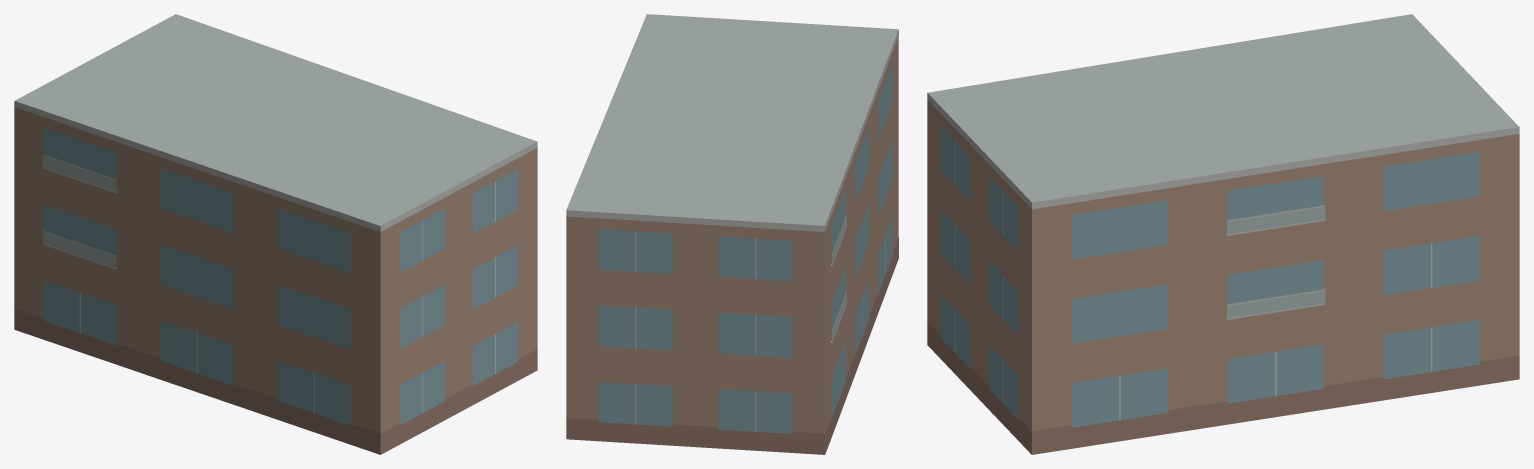
The model's file is survey-upis-32987995.glb.
3 views of the same model, side by side, from view 1: azimuth 30°, elevation 25°; view 2: azimuth 150°, elevation 25°; view 3: azimuth 270°, elevation 25° (orthographic). The views are drawn at different scales.
Parts seen in each view (by area): view 1: survey-upis-32987995.tmp; view 2: survey-upis-32987995.tmp; view 3: survey-upis-32987995.tmp.
Part boxes in pixels (x1,y1,x2,y2): survey-upis-32987995.tmp: (14, 14, 537, 454); survey-upis-32987995.tmp: (566, 14, 898, 454); survey-upis-32987995.tmp: (927, 14, 1519, 454).
Bounding box in the file's own units: 14.68 × 9.15 × 19.47.
